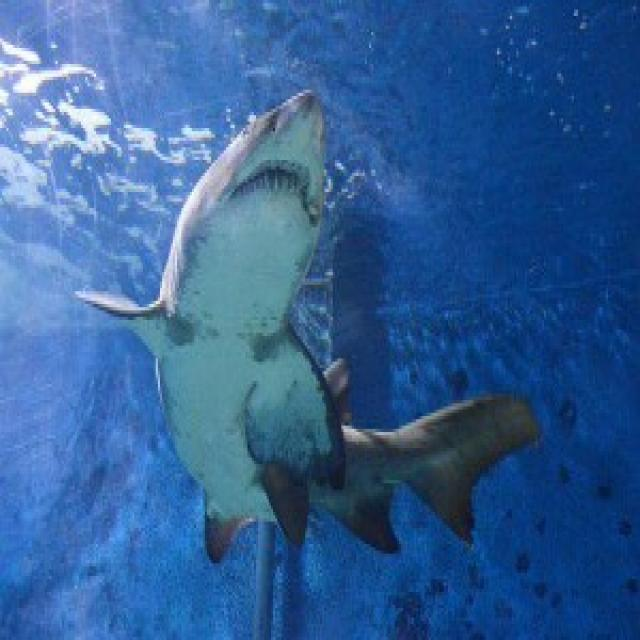Shark: (66, 61, 543, 574)
